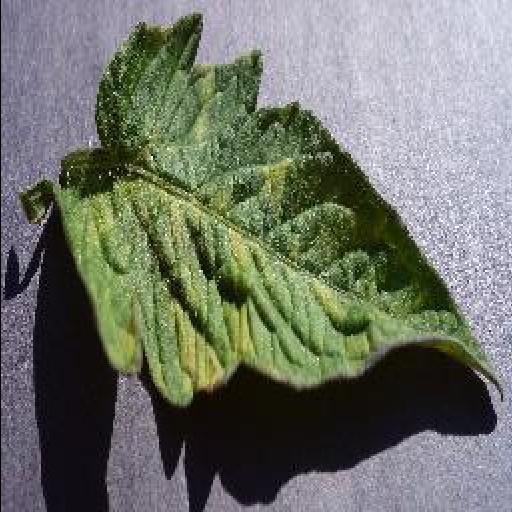disease_tomato: (56, 15, 508, 408)
